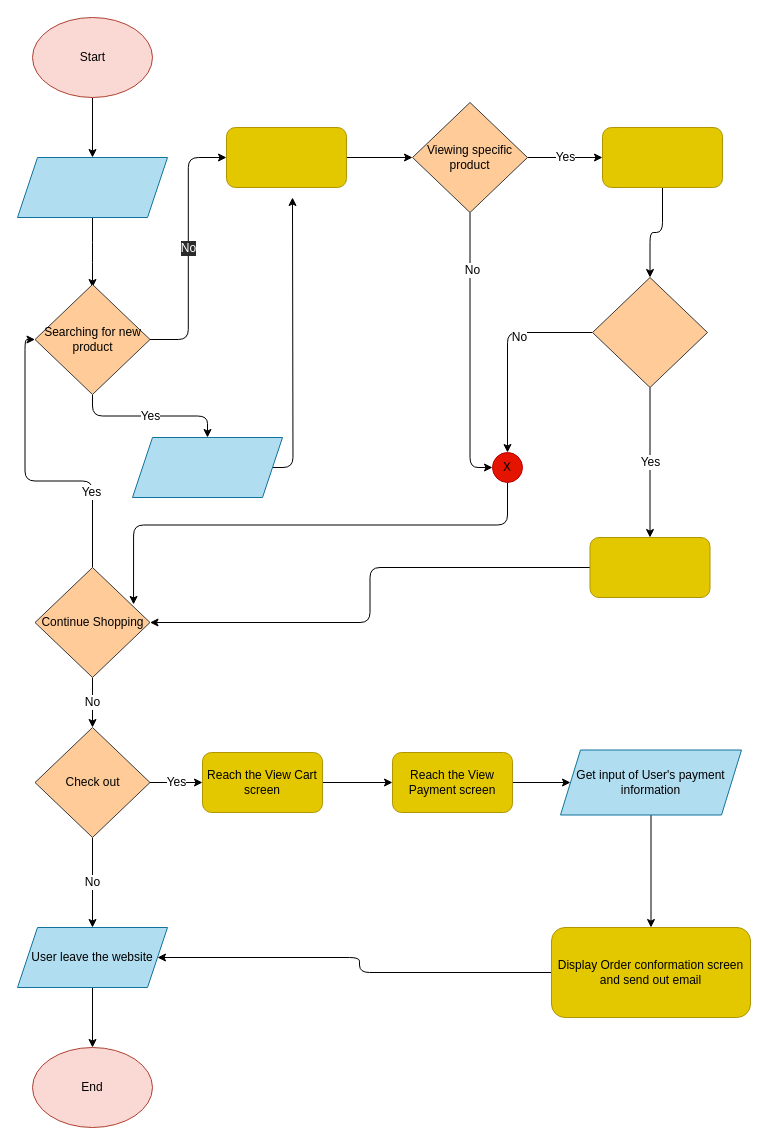
The diagram is 768 pixels wide and 1145 high, and some of its shapes have lost their labels. The box of each missing label's shape, as (x1, y1, x2, y2) in pixels:
Adding to shopping cart: (592, 276, 708, 388)
Display added to cart confirmation: (589, 536, 710, 598)
Input string to search: (132, 436, 282, 498)
Looking over products: (226, 126, 346, 188)
Open product's webpage: (602, 126, 722, 188)
User enter website: (16, 156, 168, 218)
